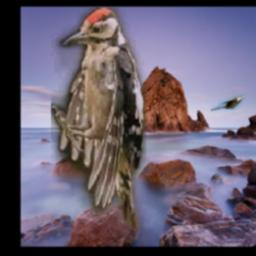Cuckoo: (211, 96, 246, 112)
Woodpecker: (50, 8, 145, 231)
